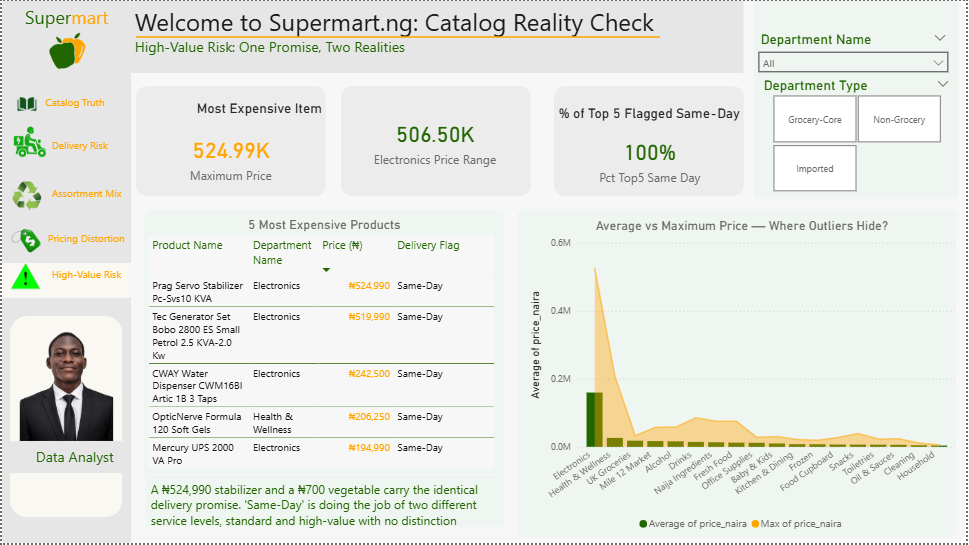

The dashboard page shown, as its layout file describes it:
{"tool":"powerbi","page":{"name":"High-Value Risk","canvas":[1280,720],"ordinal":4},"visuals":[{"type":"shape","box":[0,0,1280.2,720],"z":0},{"type":"actionButton","box":[0,113.5,171.8,50.8],"z":0,"group":"g4"},{"type":"shape","box":[177.8,113.5,252.4,146.4],"z":0,"group":"g2"},{"type":"shape","box":[999.4,0,271.9,262.9],"z":500,"group":"g7"},{"type":"shape","box":[449.7,113.5,252.4,146.4],"z":1000,"group":"g2"},{"type":"actionButton","box":[0,164.3,171.8,50.8],"z":1000,"group":"g4"},{"type":"shape","box":[188.1,277.2,478.7,421.6],"z":1000},{"type":"shape","box":[0,0,171.8,720],"z":2000},{"type":"slicer","fields":{"Values":["public dim_department.department_type"]},"box":[999.4,95.6,271.9,164.3],"z":2000,"group":"g7"},{"type":"shape","box":[733.5,113.5,252.4,146.4],"z":2000,"group":"g2"},{"type":"actionButton","box":[0,236,171.8,50.8],"z":2000,"group":"g4"},{"type":"group","id":"g1","title":"Group 2","box":[0,113.5,171.8,281.5],"z":3000},{"type":"actionButton","box":[0,286.8,171.8,50.8],"z":3000,"group":"g4"},{"type":"shape","box":[171.8,0,814.1,95.6],"z":4000},{"type":"slicer","fields":{"Values":["public fact_products.department_name"]},"box":[994.9,34.4,271.9,61.2],"z":4000,"group":"g7"},{"type":"textbox","box":[171.8,0,814.1,95.6],"z":5000},{"type":"image","box":[43.3,31.4,86.6,64.2],"z":6000},{"type":"group","id":"g2","title":"Group 1","box":[177.8,113.5,808.1,146.4],"z":7000},{"type":"textbox","box":[0,0,171.8,50.8],"z":8000},{"type":"shape","box":[177.8,0,696.1,95.6],"z":9000},{"type":"card","title":"Most Expensive Item","fields":{"Values":["public fact_products.Maximum Price"]},"box":[178.1,131,252,129.3],"z":10000},{"type":"card","fields":{"Values":["public fact_products.Electronics Price Range"]},"box":[449.6,113.5,252.4,146.4],"z":11000},{"type":"image","box":[14.9,164.3,44.8,48],"z":11000,"group":"g5"},{"type":"textbox","box":[44.8,121,127,34.4],"z":12000,"group":"g3"},{"type":"card","title":"% of Top 5 Flagged Same-Day","fields":{"Values":["public fact_products.Pct Top5 Same Day"]},"box":[734.1,137.7,252,122.6],"z":12000},{"type":"group","id":"g3","title":"Group 4","box":[44.8,121,132.9,262.9],"z":13000},{"type":"textbox","box":[61.2,177.8,110.5,34.4],"z":13000,"group":"g3"},{"type":"image","box":[12,236,43.3,47.8],"z":13000,"group":"g5"},{"type":"group","id":"g4","title":"Group 5","box":[0,113.5,171.8,224.1],"z":14000},{"type":"textbox","box":[61.2,242,110.5,34.4],"z":14000,"group":"g3"},{"type":"image","box":[10.5,295.7,44,48],"z":14000,"group":"g5"},{"type":"group","id":"g5","title":"Group 3","box":[0,113.5,171.8,281.5],"z":14003,"group":"g1"},{"type":"textbox","box":[55.3,301.7,116.5,34.4],"z":15000,"group":"g3"},{"type":"shape","box":[0,348.7,171.8,46.3],"z":15000,"group":"g5"},{"type":"group","id":"g6","title":"Group 6","box":[10.5,418.3,149.4,267.4],"z":15000},{"type":"group","id":"g7","title":"Group 7","box":[994.9,0,276.3,262.9],"z":16000},{"type":"image","box":[10.5,343.5,44,48],"z":16000,"group":"g5"},{"type":"textbox","box":[61.2,349.5,116.5,34.4],"z":16000,"group":"g3"},{"type":"image","box":[10.5,113.5,44.8,48],"z":16500,"group":"g5"},{"type":"tableEx","title":"5 Most Expensive Products","fields":{"Values":["public fact_products.product_name","public fact_products.department_name","Sum(public fact_products.price_naira)","public fact_products.delivery_flag"]},"box":[188.1,287.2,478.7,341],"z":17000},{"type":"textbox","box":[188.1,628.2,478.7,92.4],"z":18000},{"type":"shape","box":[684,276.6,583.6,436.3],"z":19000},{"type":"shape","box":[10.5,418.3,149.4,267.4],"z":19000,"group":"g6"},{"type":"lineClusteredColumnComboChart","title":"Average vs Maximum Price — Where Outliers Hide?","fields":{"Category":["public dim_department.department_name"],"Y":["Avg(public fact_products.price_naira)"],"Y2":["Max(public fact_products.price_naira)1"]},"box":[695.1,287.7,576.7,425.3],"z":20000},{"type":"shape","box":[10.5,584.1,149.4,43.3],"z":20000,"group":"g6"},{"type":"image","box":[10.5,418.3,149.4,165.8],"z":21000,"group":"g6"},{"type":"textbox","box":[32.9,587.1,127,38.8],"z":22000,"group":"g6"}]}

Visuals, with their boxes in screenshot pixels (x1, y1, x2, y2), scaled from the page's 1280x720 canvas onto the 969x545 screenshot:
shape: <bbox>0, 0, 968, 544</bbox>
actionButton: <bbox>0, 86, 130, 124</bbox>
shape: <bbox>135, 86, 326, 197</bbox>
shape: <bbox>757, 0, 962, 199</bbox>
shape: <bbox>340, 86, 532, 197</bbox>
actionButton: <bbox>0, 124, 130, 163</bbox>
shape: <bbox>142, 210, 505, 529</bbox>
shape: <bbox>0, 0, 130, 544</bbox>
slicer - public dim_department.department_type: <bbox>757, 72, 962, 197</bbox>
shape: <bbox>555, 86, 746, 197</bbox>
actionButton: <bbox>0, 179, 130, 217</bbox>
"Group 2" group: <bbox>0, 86, 130, 299</bbox>
actionButton: <bbox>0, 217, 130, 256</bbox>
shape: <bbox>130, 0, 746, 72</bbox>
slicer - public fact_products.department_name: <bbox>753, 26, 959, 72</bbox>
textbox: <bbox>130, 0, 746, 72</bbox>
image: <bbox>33, 24, 98, 72</bbox>
"Group 1" group: <bbox>135, 86, 746, 197</bbox>
textbox: <bbox>0, 0, 130, 38</bbox>
shape: <bbox>135, 0, 662, 72</bbox>
"Most Expensive Item" card: <bbox>135, 99, 326, 197</bbox>
card - public fact_products.Electronics Price Range: <bbox>340, 86, 531, 197</bbox>
image: <bbox>11, 124, 45, 161</bbox>
textbox: <bbox>34, 92, 130, 118</bbox>
"% of Top 5 Flagged Same-Day" card: <bbox>556, 104, 747, 197</bbox>
"Group 4" group: <bbox>34, 92, 135, 291</bbox>
textbox: <bbox>46, 135, 130, 161</bbox>
image: <bbox>9, 179, 42, 215</bbox>
"Group 5" group: <bbox>0, 86, 130, 256</bbox>
textbox: <bbox>46, 183, 130, 209</bbox>
image: <bbox>8, 224, 41, 260</bbox>
"Group 3" group: <bbox>0, 86, 130, 299</bbox>
textbox: <bbox>42, 228, 130, 254</bbox>
shape: <bbox>0, 264, 130, 299</bbox>
"Group 6" group: <bbox>8, 317, 121, 519</bbox>
"Group 7" group: <bbox>753, 0, 962, 199</bbox>
image: <bbox>8, 260, 41, 296</bbox>
textbox: <bbox>46, 265, 135, 291</bbox>
image: <bbox>8, 86, 42, 122</bbox>
"5 Most Expensive Products" tableEx: <bbox>142, 217, 505, 476</bbox>
textbox: <bbox>142, 476, 505, 544</bbox>
shape: <bbox>518, 209, 960, 540</bbox>
shape: <bbox>8, 317, 121, 519</bbox>
"Average vs Maximum Price — Where Outliers Hide?" lineClusteredColumnComboChart: <bbox>526, 218, 963, 540</bbox>
shape: <bbox>8, 442, 121, 475</bbox>
image: <bbox>8, 317, 121, 442</bbox>
textbox: <bbox>25, 444, 121, 474</bbox>
